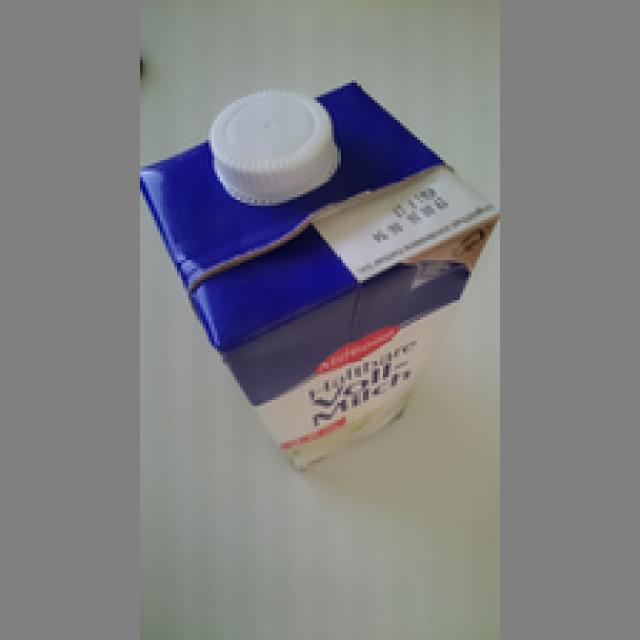groceries: (134, 77, 500, 492)
